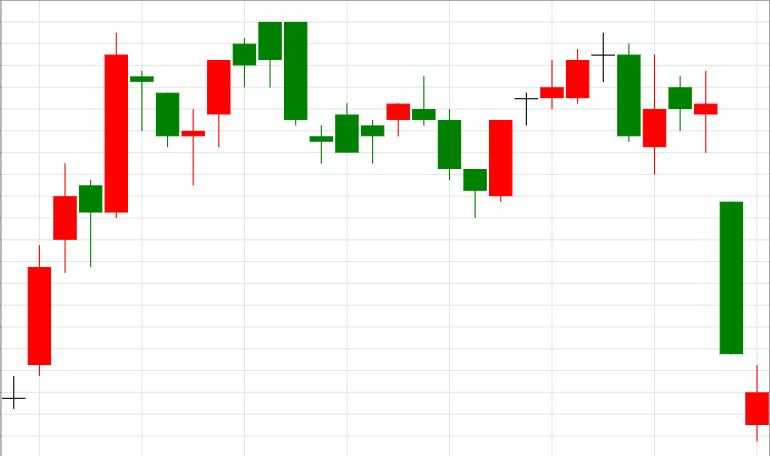evening_star_fall: (489, 31, 641, 203)
